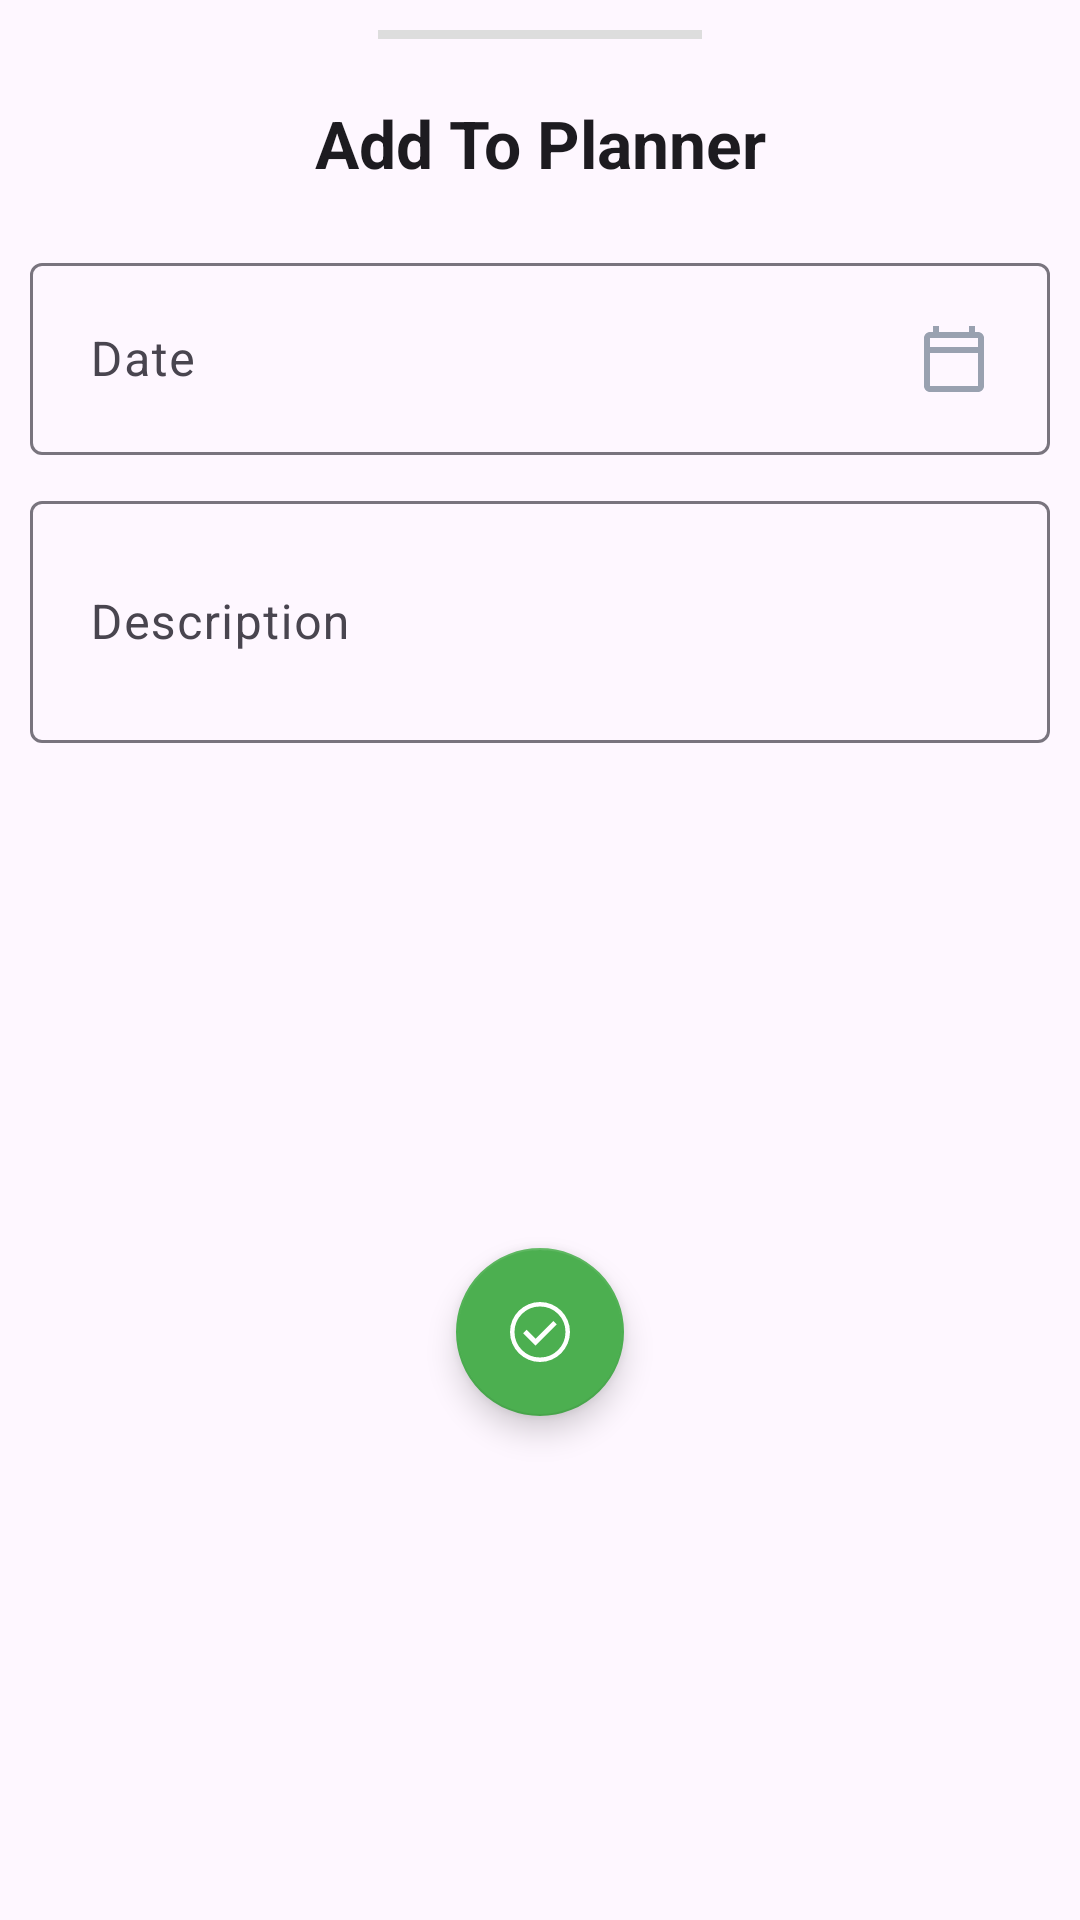

Icon bounding boxes for this 1080*1920 phone screenshot, format (x1, y1, x2, y2):
check: (456, 1248, 624, 1416)
